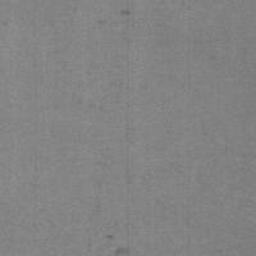Inclusion: (114, 247, 131, 256), (120, 8, 132, 15), (105, 234, 115, 241), (97, 18, 108, 24)
